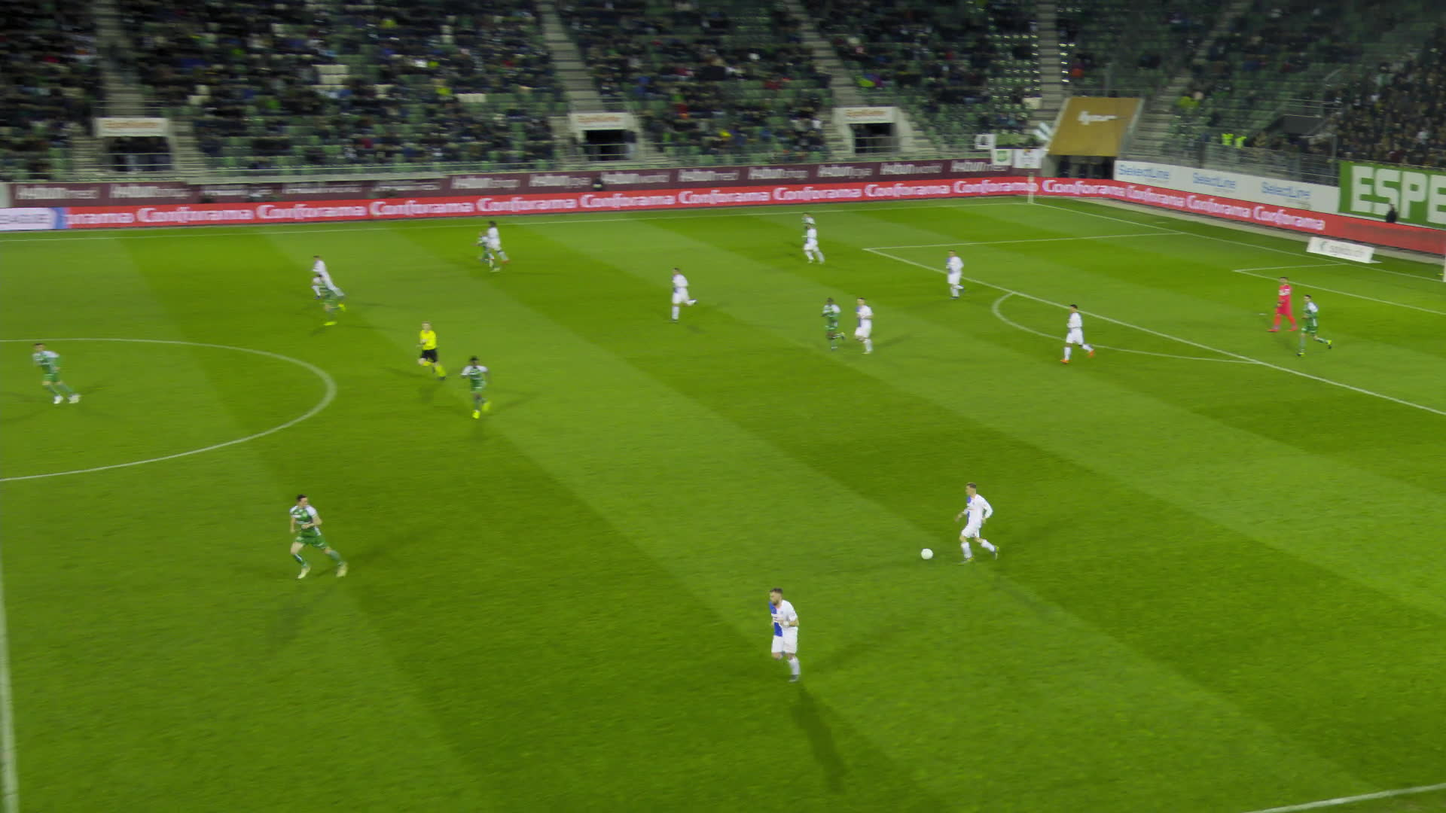ball: (920, 548, 932, 559)
player: (763, 585, 810, 684), (284, 496, 331, 584), (956, 483, 998, 565), (27, 344, 72, 406), (1292, 294, 1326, 356), (310, 270, 349, 324), (456, 357, 485, 417), (818, 295, 847, 351), (666, 266, 694, 323), (850, 296, 876, 355), (1267, 275, 1293, 331), (1063, 305, 1088, 363), (942, 247, 964, 299), (480, 220, 501, 263), (802, 224, 824, 264), (308, 255, 329, 295), (471, 232, 491, 273), (798, 213, 813, 248)
referee: (413, 320, 447, 382)
